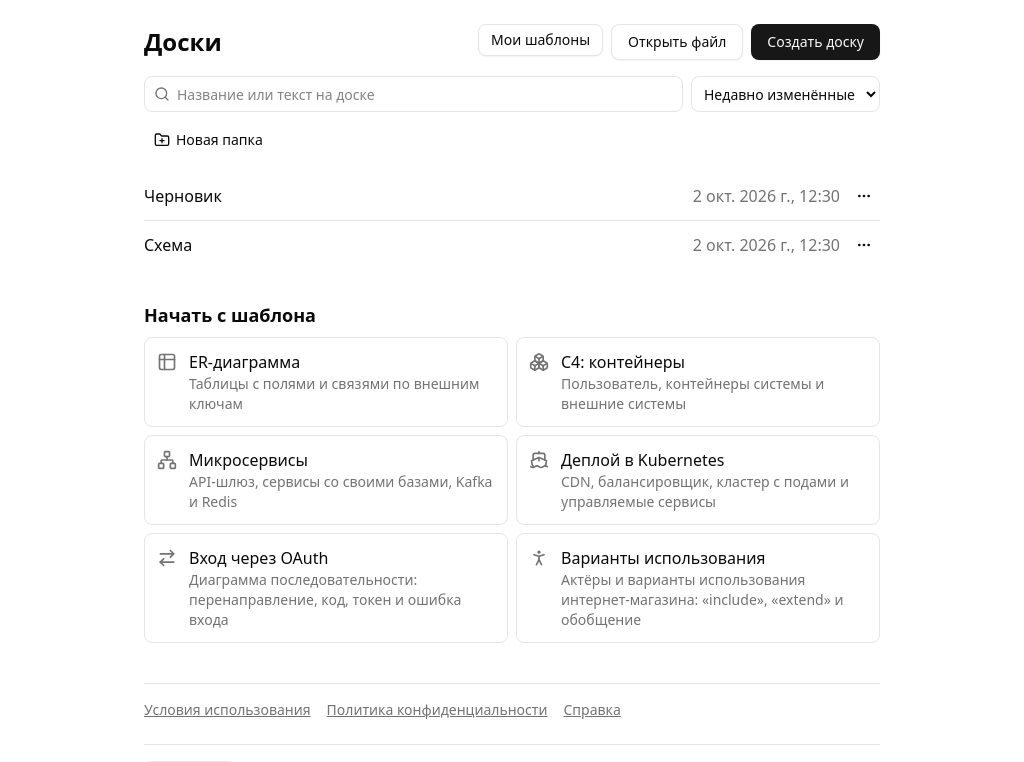
it: BoardsPage › deletes a board after the confirmation that names it, with its copy in the browser
The width and height of the screenshot is (1024, 762).
Click the button named "Меню доски «Черновик»" at point(864, 196), box [848,180,880,212]
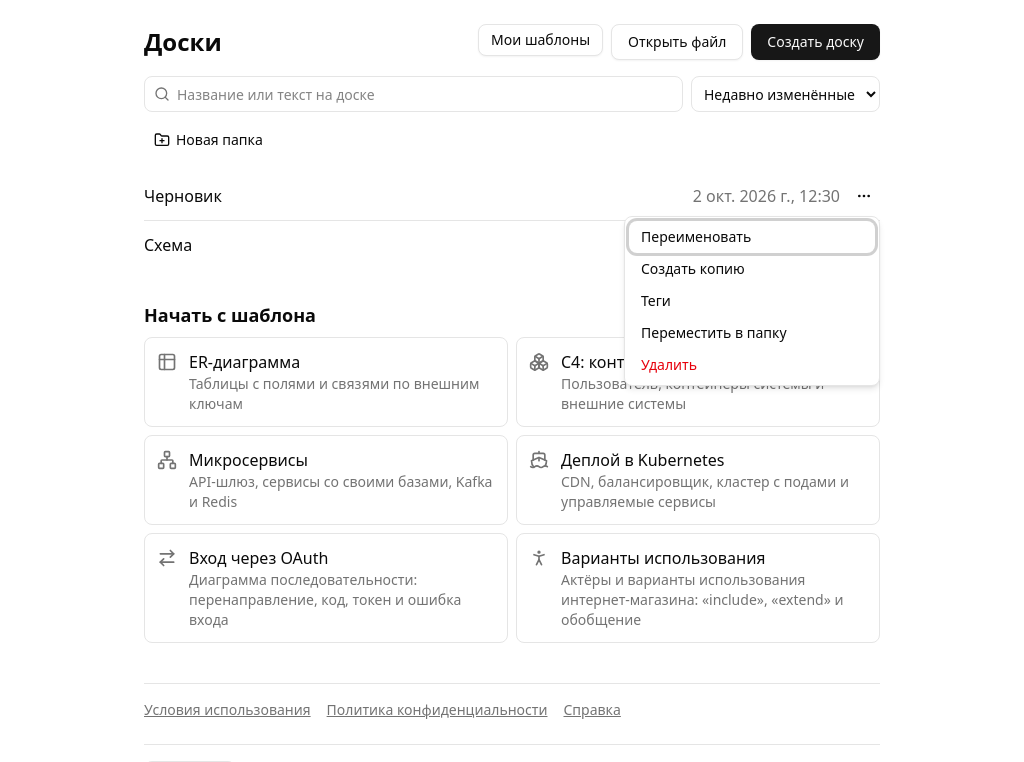
Click the menu item "Удалить" at point(752, 365), box [629,349,875,381]
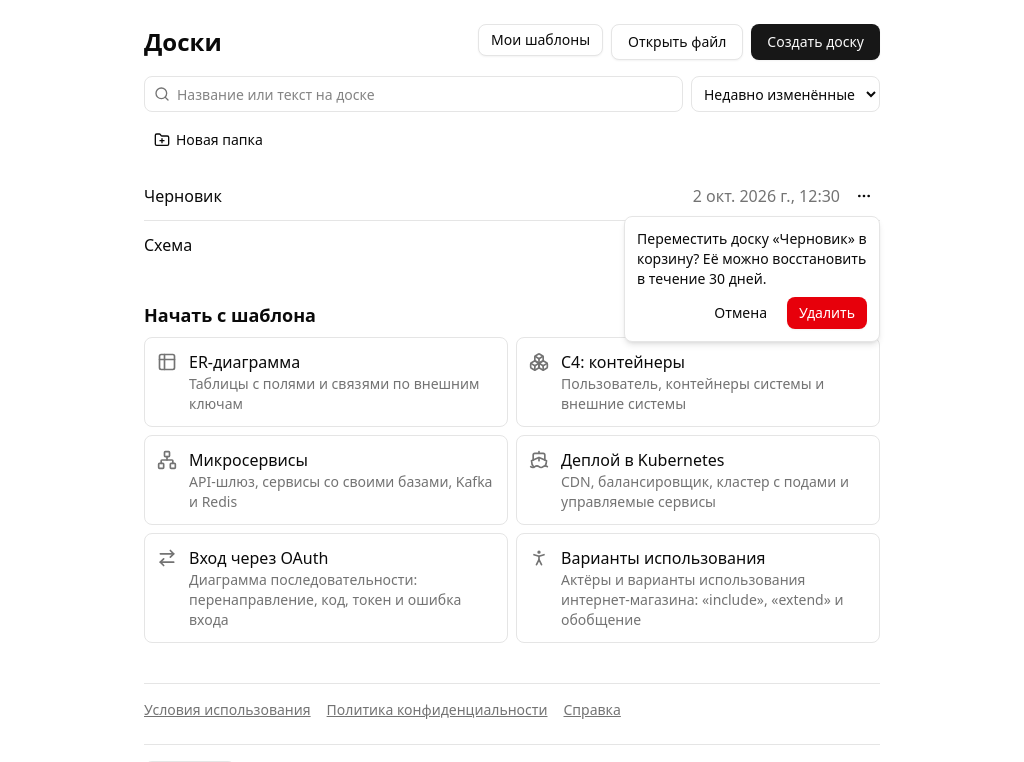
Check: the dialog named "Удаление доски" reads "Переместить доску «Черновик» в корзину? Её можно восстановить в течение 30 дней.", box [637,229,867,288]
Click the button "Удалить" at point(827, 313), box [787,297,867,329]
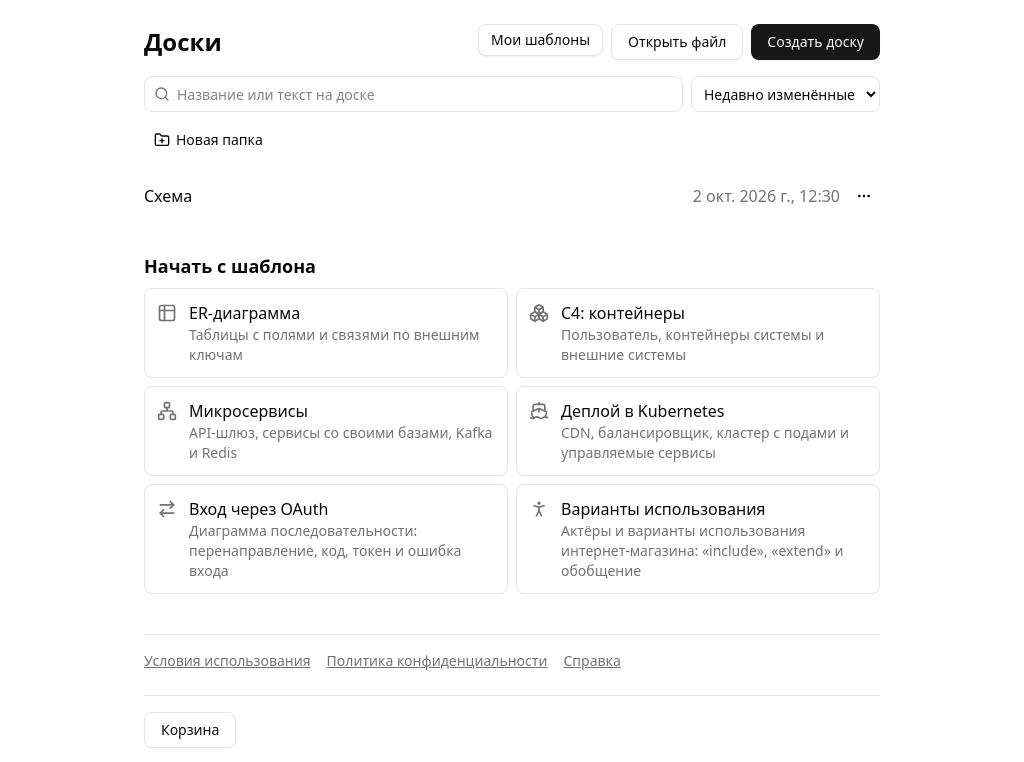
Check: the link "Схема" is shown, box [144,185,192,207]
Check: the link "Черновик" is gone
